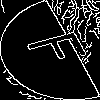F: (25, 25, 100, 70)
